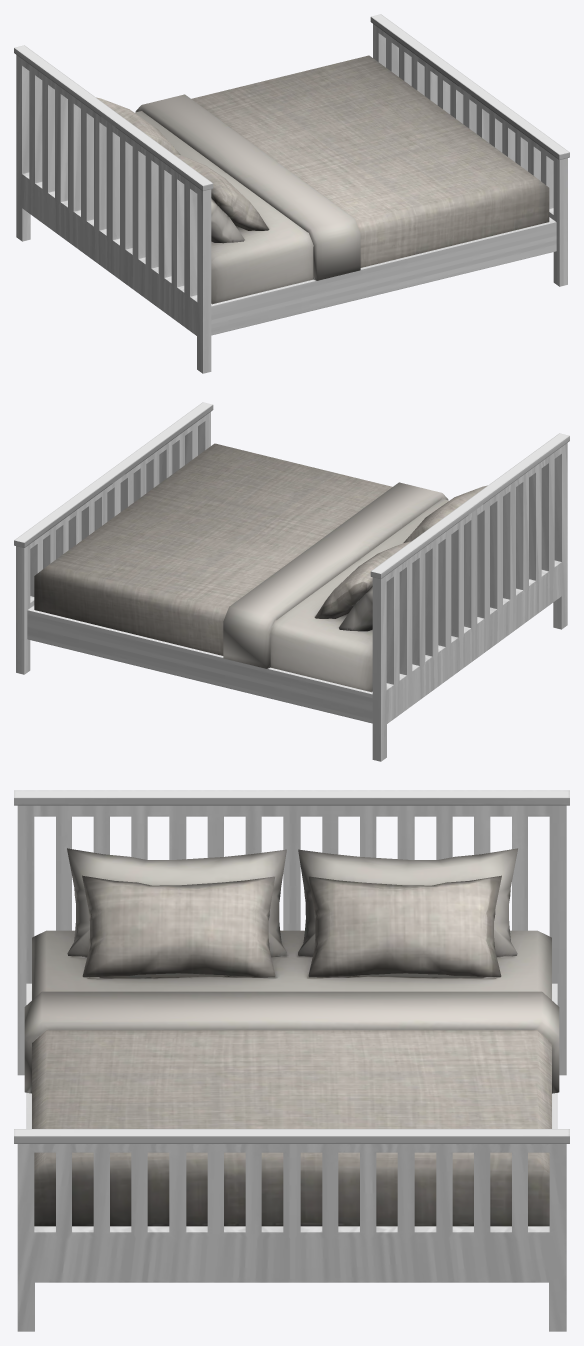
The model's file is bed_full01.glb.
3 renders of one model, top to bottom at view 1: azimuth 30°, elevation 25°; view 2: azimuth 150°, elevation 25°; view 3: azimuth 270°, elevation 25°, orthographic. The views are drawn at different scales.
Parts seen in each view (by area): view 1: full_bed01; view 2: full_bed01; view 3: full_bed01.
Boxes of the visible parts, <box> form: full_bed01: <box>14,14,569,373</box>; full_bed01: <box>14,402,569,761</box>; full_bed01: <box>14,790,569,1331</box>.
Size of the model in its own units: 1.69 by 0.8296 by 1.5.
1 material, 1 textured.
